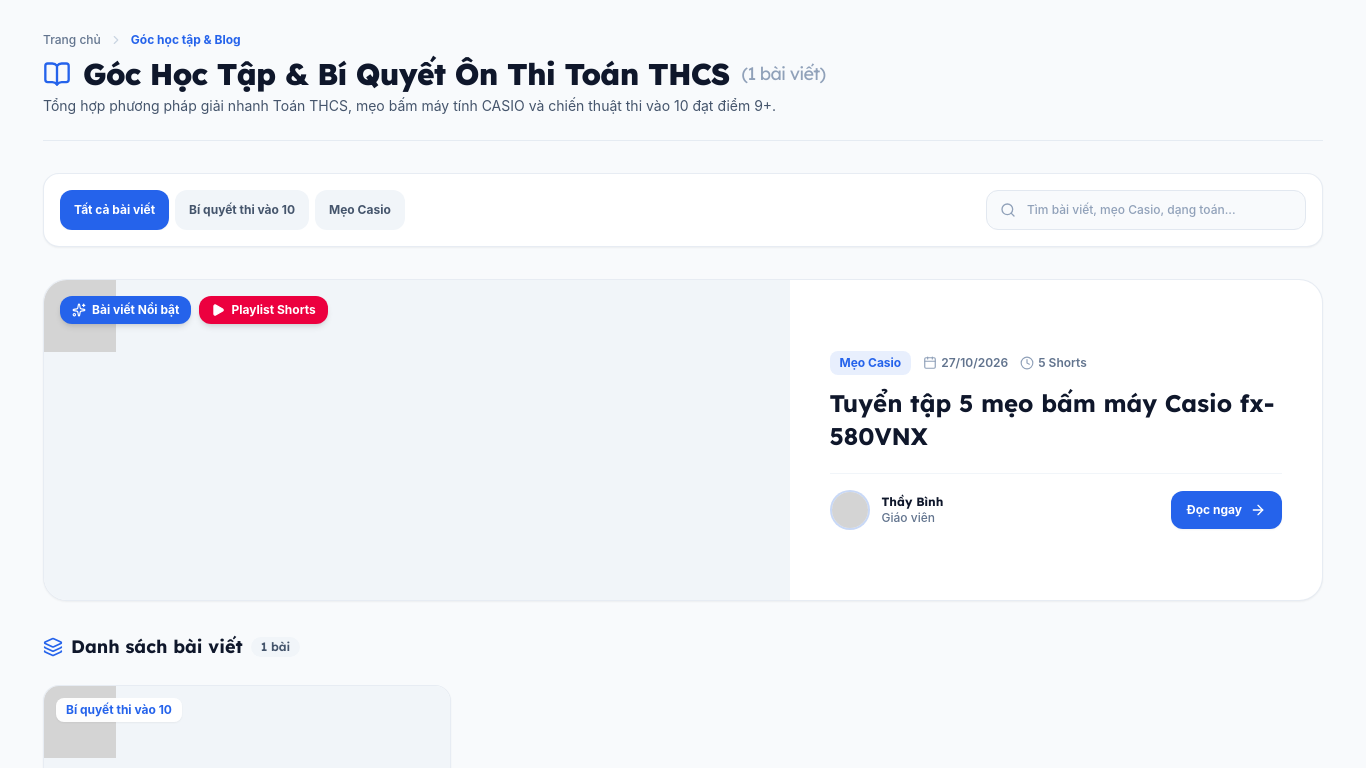
Test: BlogListPage with shorts playlist items › shows empty state with reset button when no posts match
In the field named "Tìm kiếm bài viết, chủ đề": (1146,210) top-left (986, 190), bottom-right (1306, 230), type "TuKhoaKhongTonTai12345"
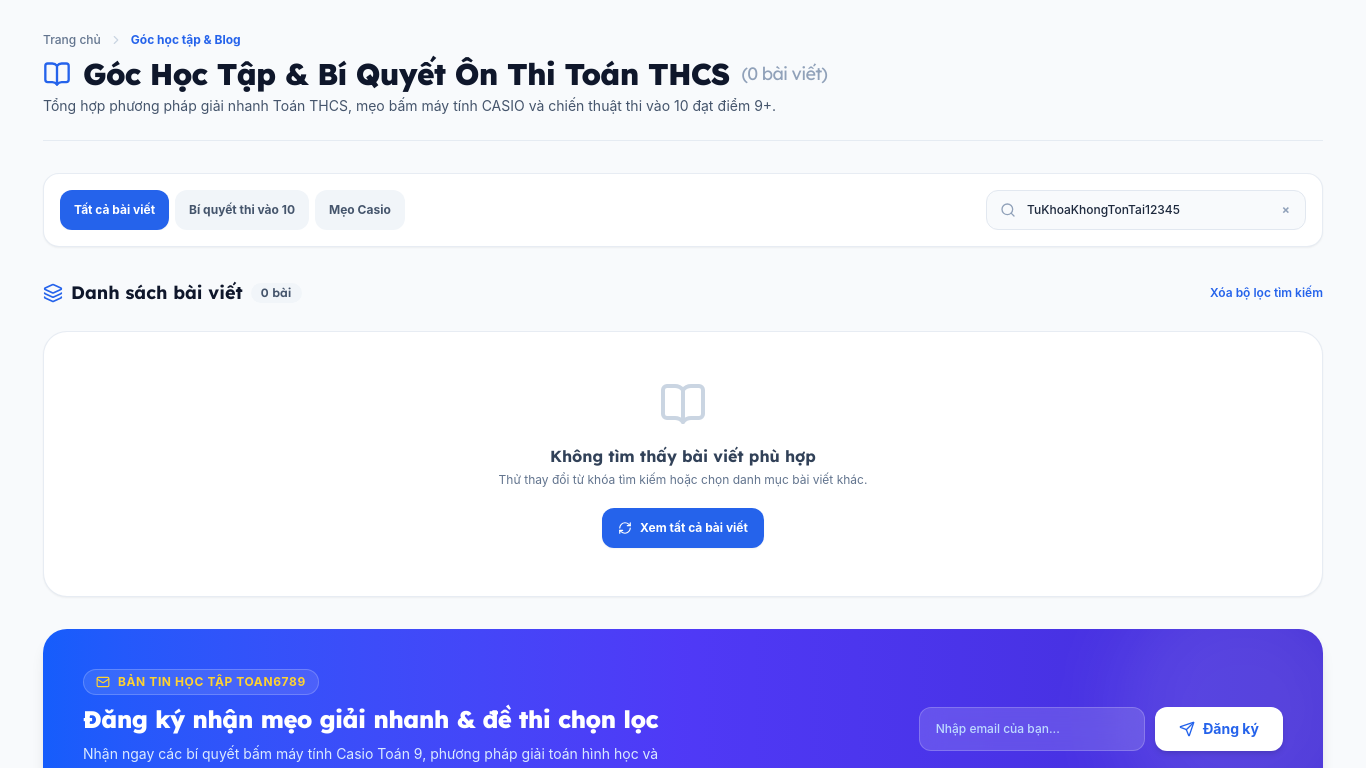
Check: the heading "Không tìm thấy bài viết phù hợp" is shown, box top-left (550, 446), bottom-right (816, 466)
Check: the button "Xem tất cả bài viết" is shown
# Clicking reset button clears search and restores list
Click the button "Xem tất cả bài viết": (683,528) top-left (602, 508), bottom-right (764, 548)
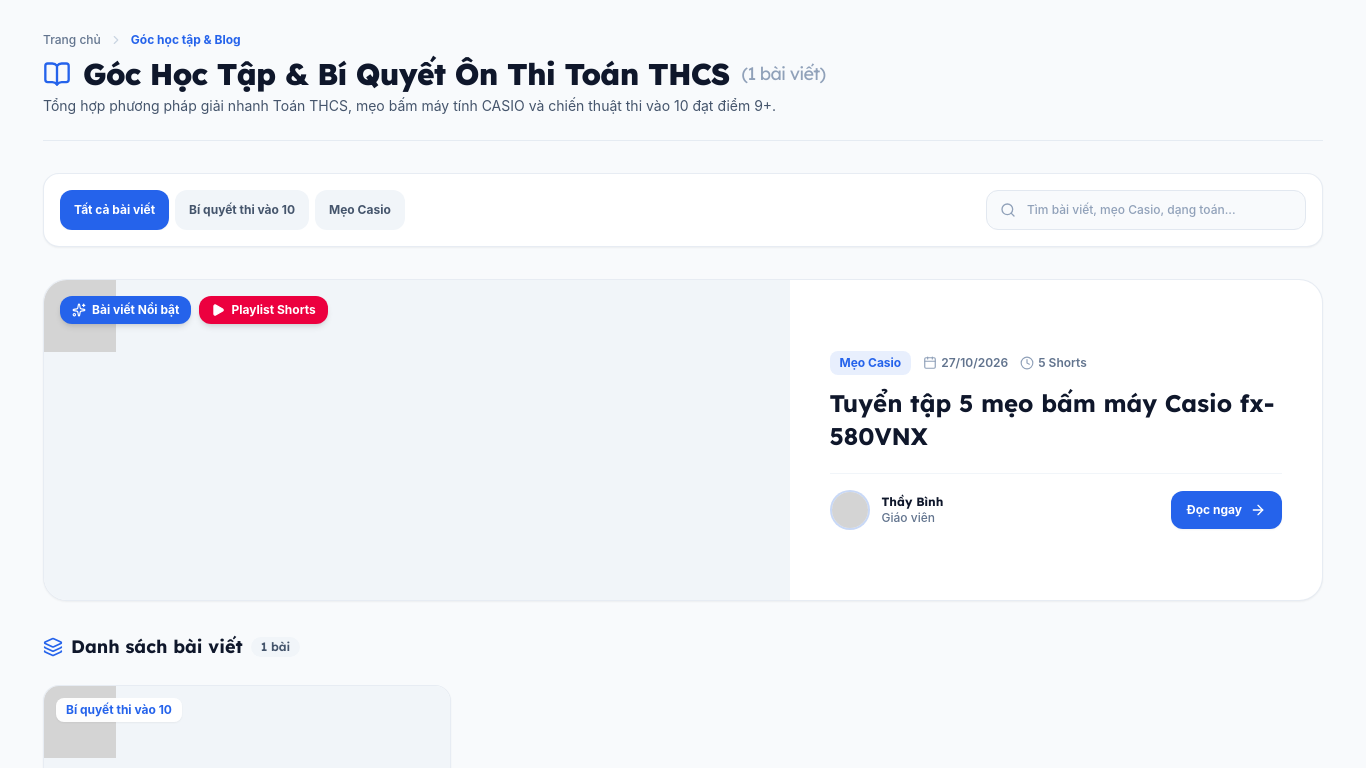
Check: the link "Tuyển tập 5 mẹo bấm máy Casio fx-580VNX" is shown, box top-left (830, 388), bottom-right (1274, 450)
